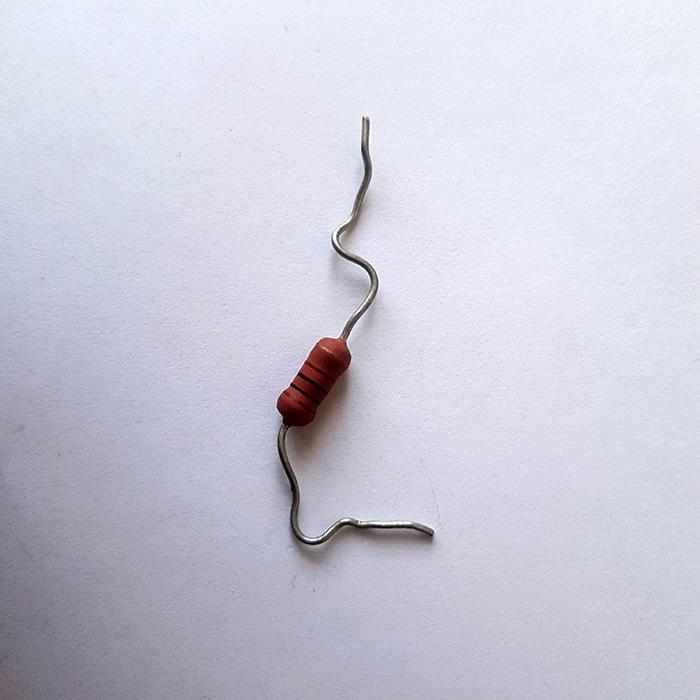resistor: (276, 335, 353, 429)
